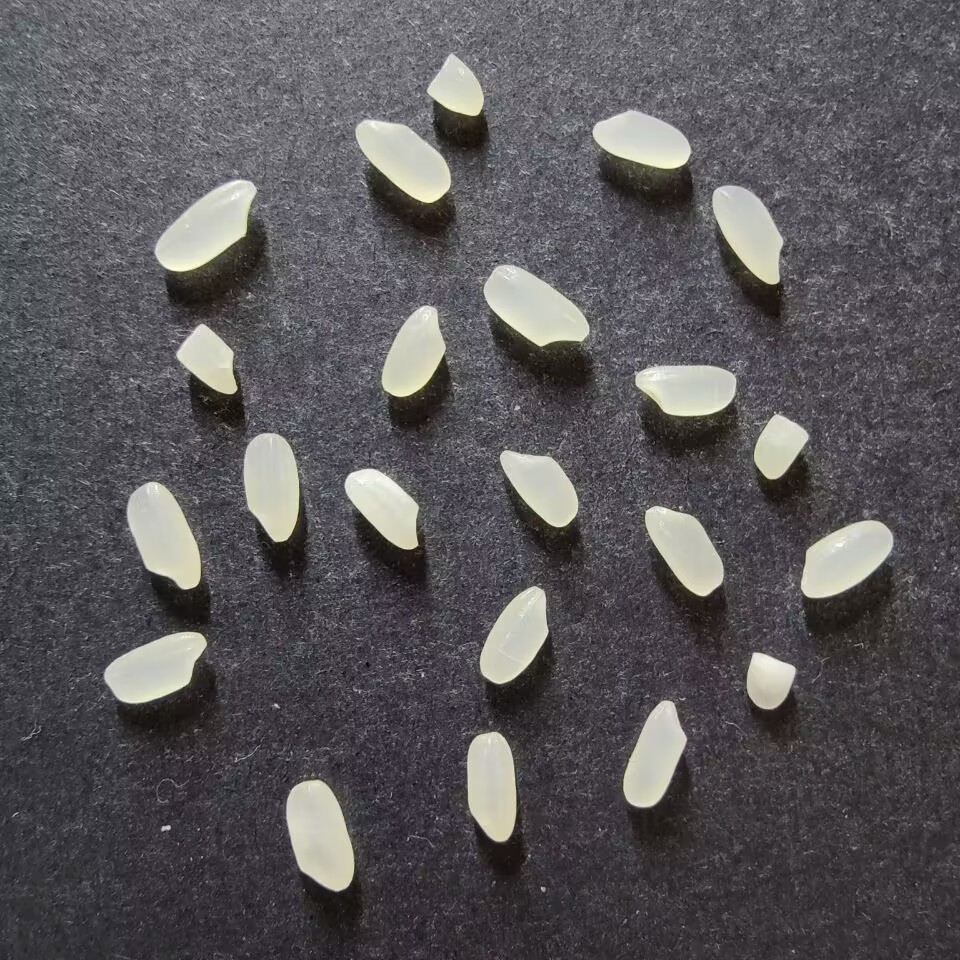broken: (175, 324, 238, 395), (753, 413, 809, 480), (426, 53, 485, 116), (746, 652, 795, 710)
rice: (154, 178, 256, 272), (482, 264, 590, 346), (126, 481, 201, 590), (354, 119, 451, 203), (285, 779, 355, 891), (102, 631, 207, 704), (800, 519, 893, 599), (711, 184, 784, 285), (644, 504, 724, 596), (622, 699, 688, 808), (478, 584, 549, 684), (242, 432, 299, 542), (499, 448, 578, 527), (344, 468, 419, 550), (380, 304, 446, 397), (591, 110, 690, 169), (465, 731, 517, 843), (634, 365, 737, 416)
